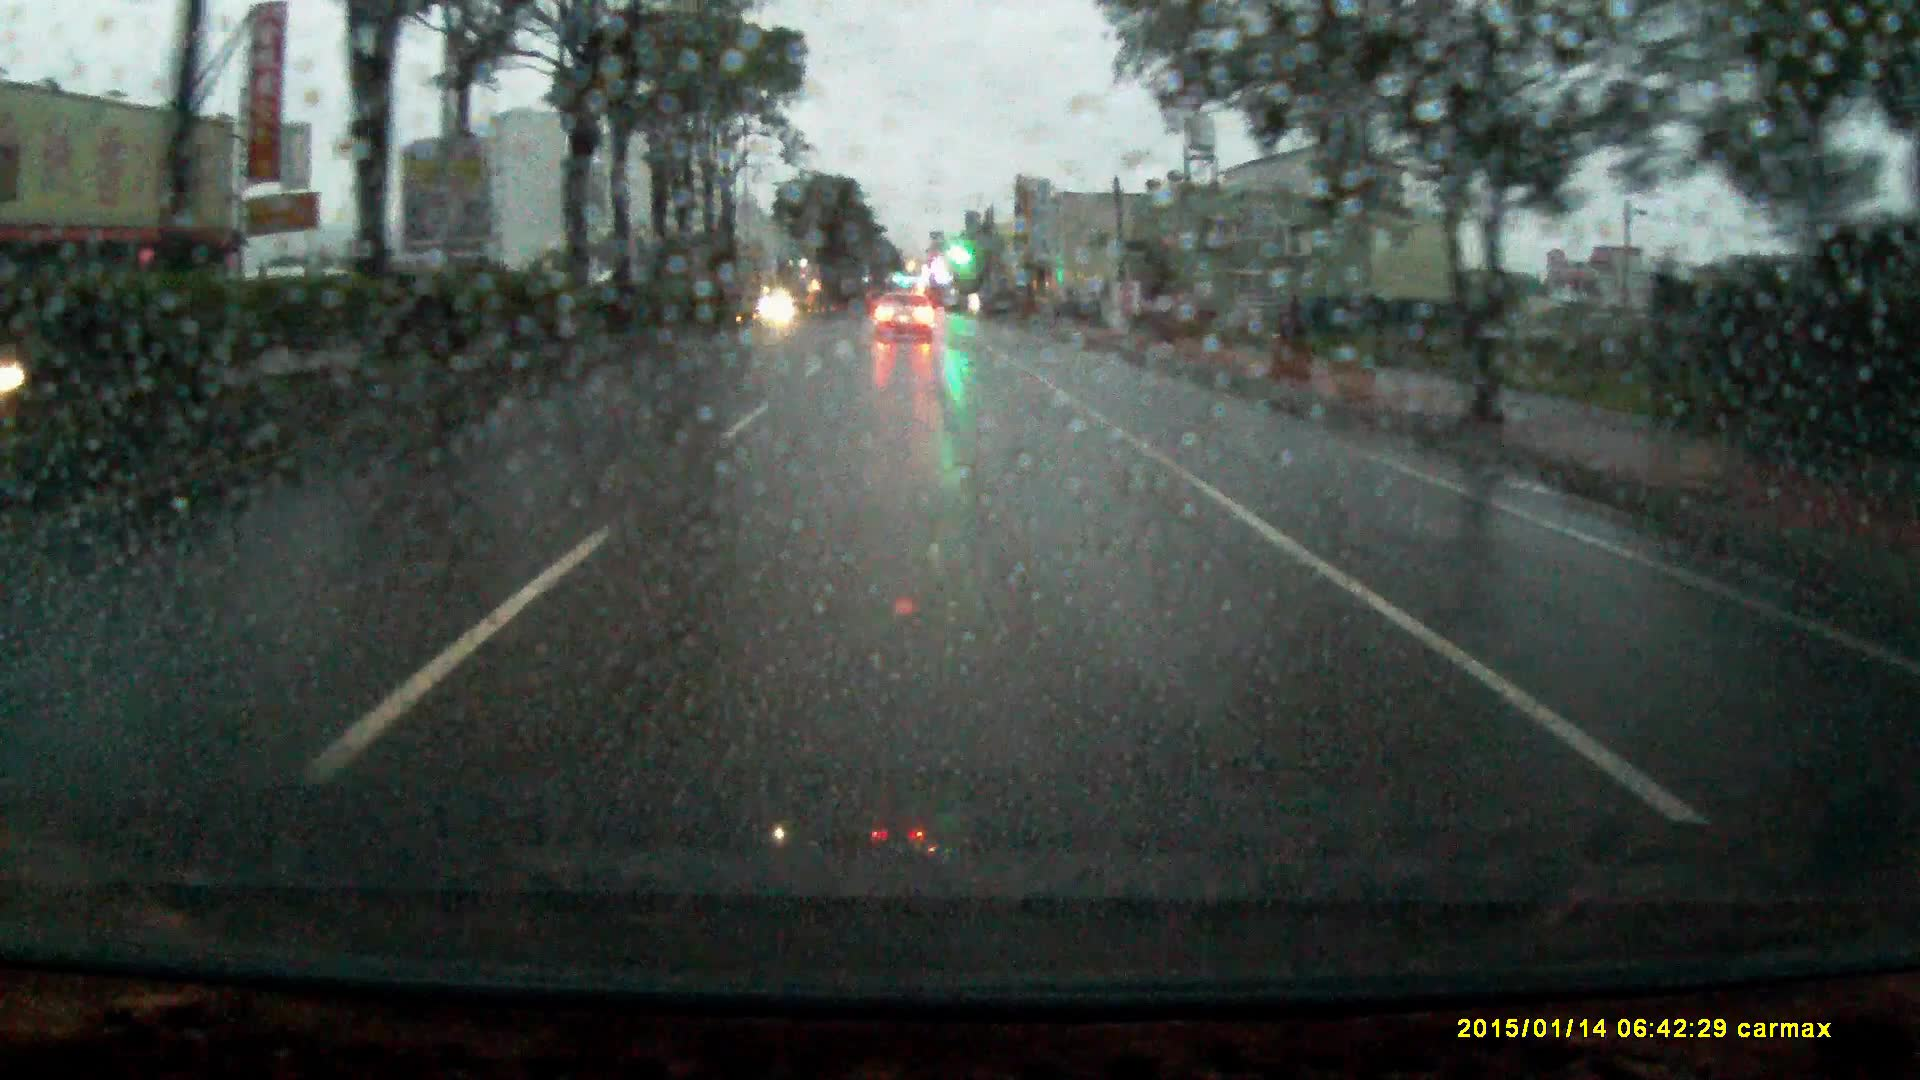vehicle: (876, 297, 936, 344)
